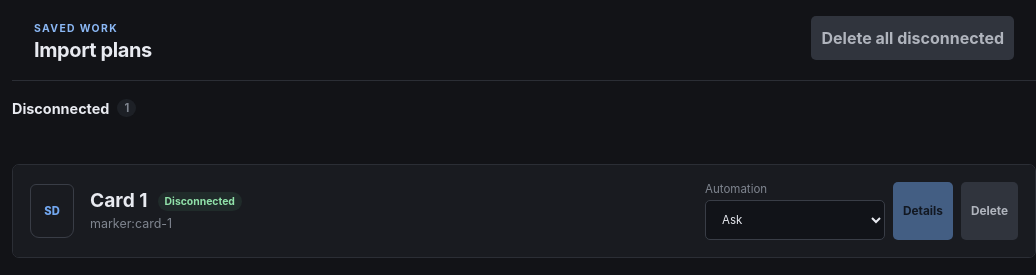
PlansPanel › deletes all disconnected plans only after confirmation
This screenshot has width=1036, height=275.
Click the button "Delete all disconnected".
click(913, 38)  # box [812,16,1014,60]
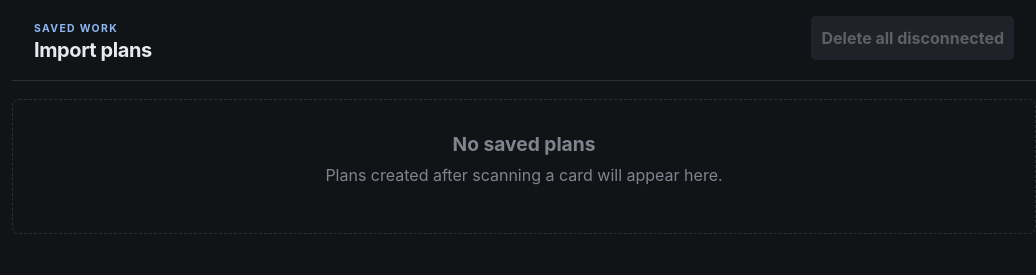
Check: the heading "No saved plans" is shown, box [453,132,596,156]
